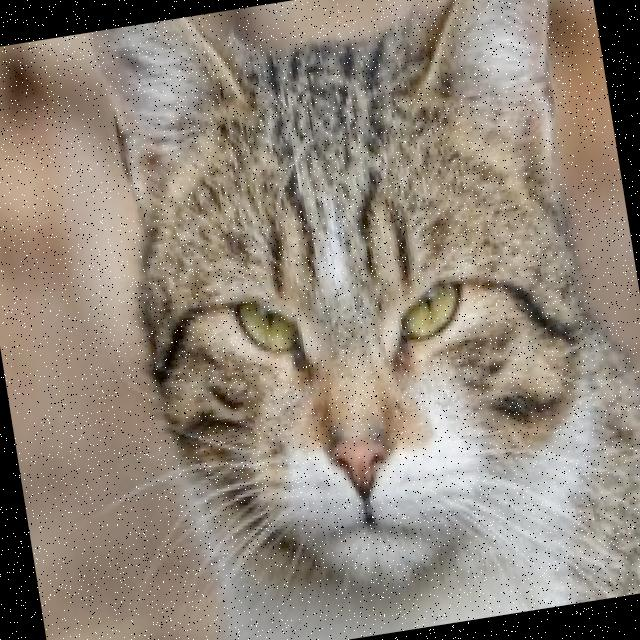Angry: (153, 190, 570, 616)
